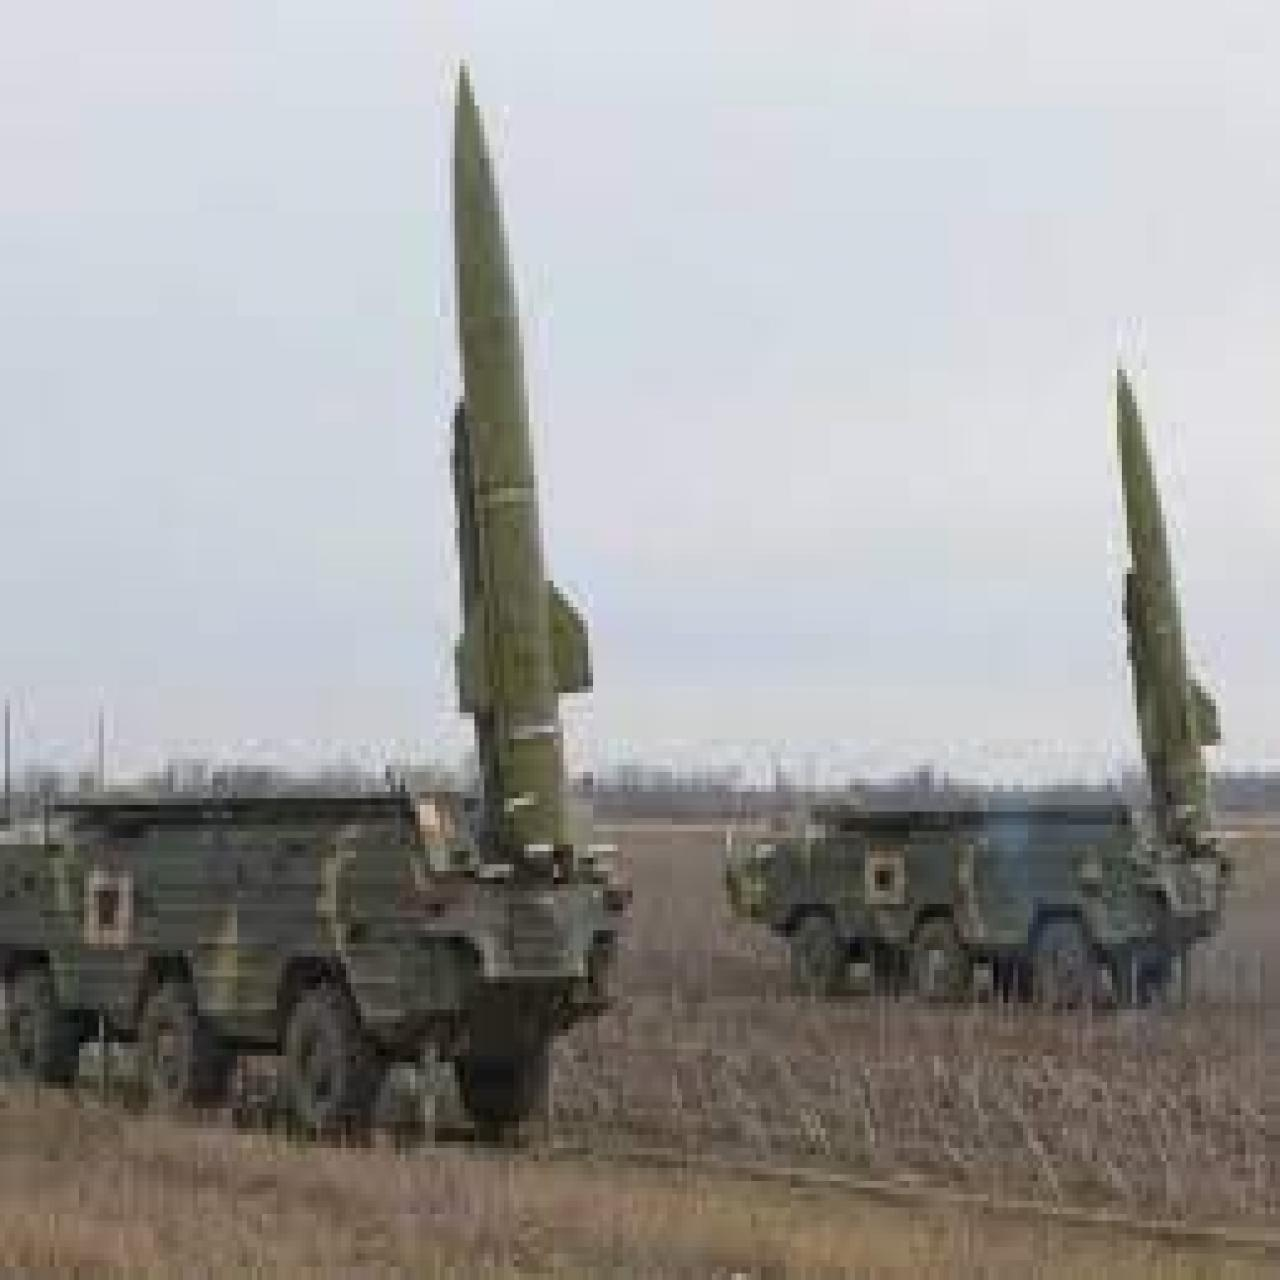MIL_Veh: (6, 66, 631, 1129), (731, 374, 1232, 1006)
